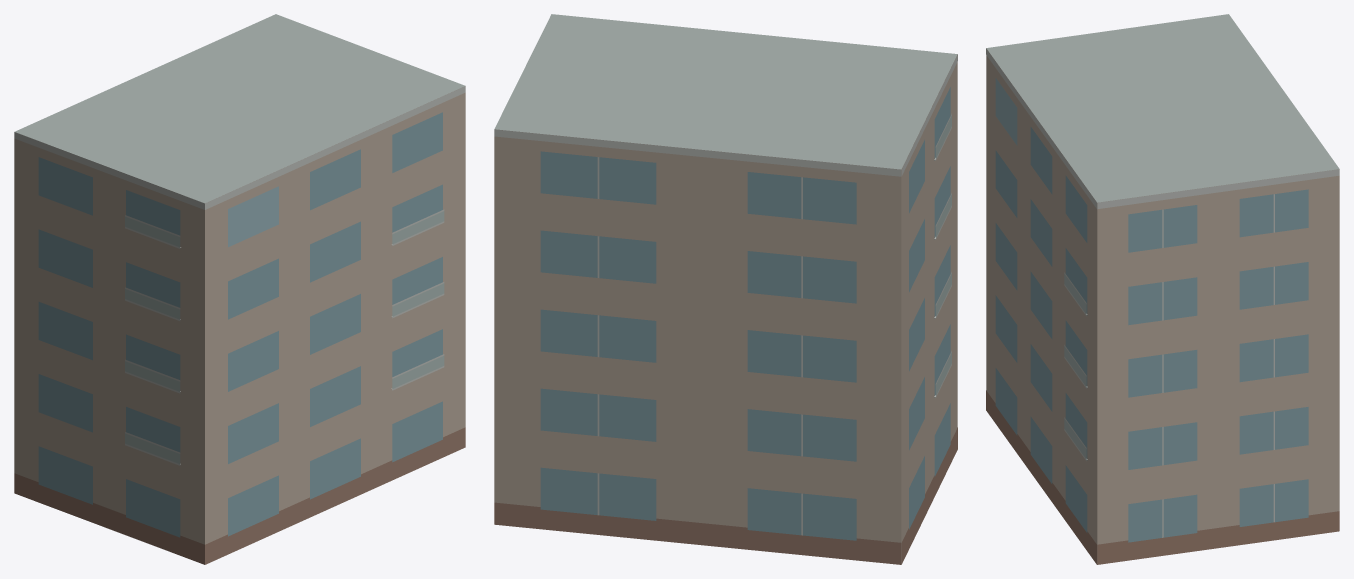
The model's file is survey-upis-32973397.glb.
3 renders of one model, left to right at view 1: azimuth 30°, elevation 25°; view 2: azimuth 150°, elevation 25°; view 3: azimuth 270°, elevation 25°, orthographic. The views are drawn at different scales.
Visible parts, largest first — view 1: survey-upis-32973397.tmp; view 2: survey-upis-32973397.tmp; view 3: survey-upis-32973397.tmp.
Part boxes in pixels (bbox=[...]): survey-upis-32973397.tmp: bbox=[14, 14, 465, 564]; survey-upis-32973397.tmp: bbox=[494, 14, 957, 564]; survey-upis-32973397.tmp: bbox=[986, 14, 1339, 564].
Bounding box in the file's own units: 14.92 × 13.35 × 11.82.
